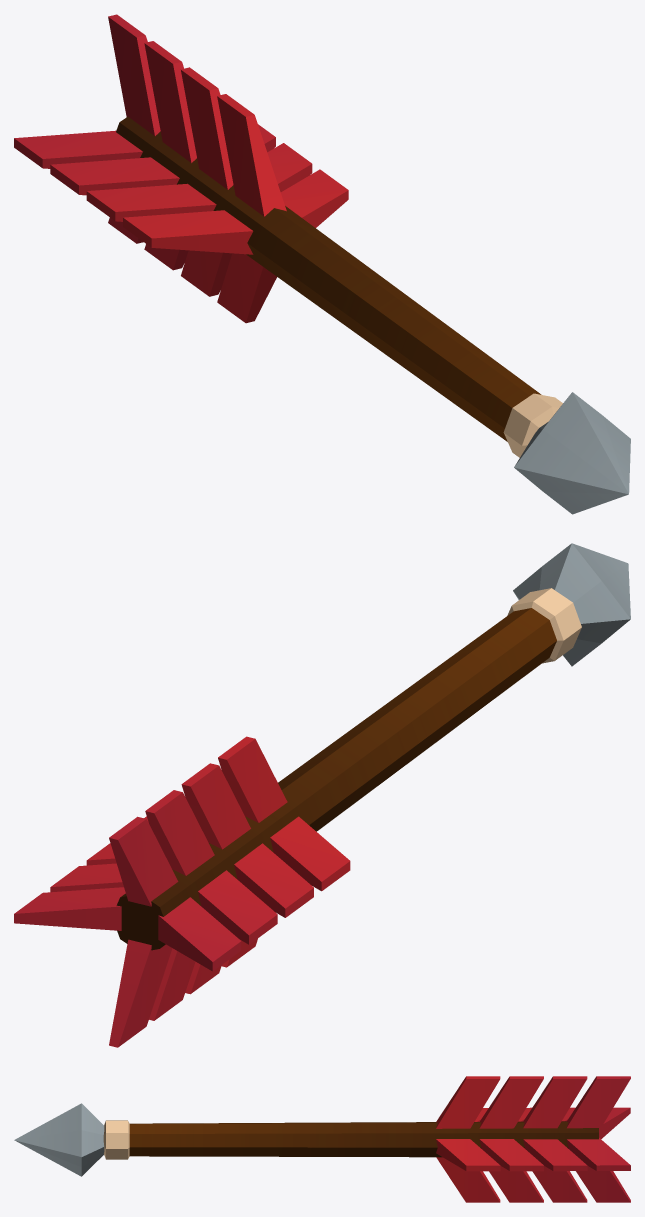
Rendered from SM_Enemy_Wep_Arrow.fbx.
3 views of the same model, one above another, from view 1: azimuth 30°, elevation 25°; view 2: azimuth 150°, elevation 25°; view 3: azimuth 270°, elevation 25° (orthographic). The views are drawn at different scales.
Visible parts, largest first — view 1: SM_Enemy_Wep_Arrow; view 2: SM_Enemy_Wep_Arrow; view 3: SM_Enemy_Wep_Arrow.
Boxes of the visible parts, left/top/right/bottom form: SM_Enemy_Wep_Arrow: left=14, top=14, right=630, bottom=514; SM_Enemy_Wep_Arrow: left=14, top=543, right=630, bottom=1047; SM_Enemy_Wep_Arrow: left=14, top=1076, right=630, bottom=1202.
Bounding box in the file's own units: 0.2333 × 0.2327 × 1.05.
